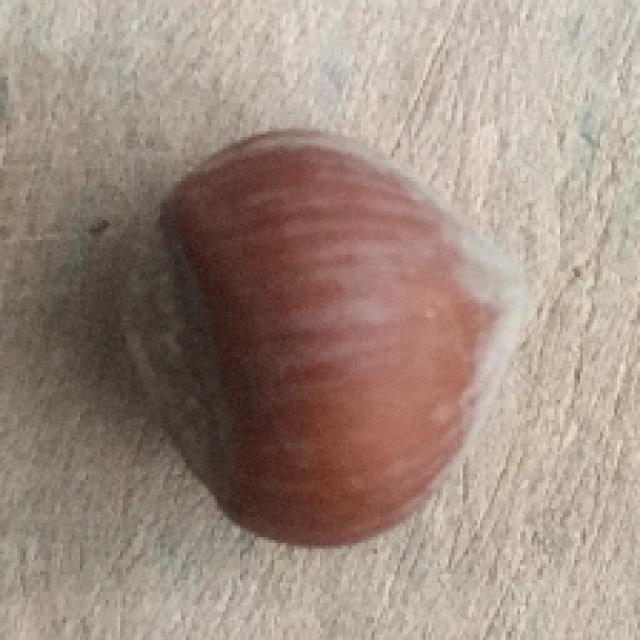QualityHazelnut: (115, 123, 527, 552)
